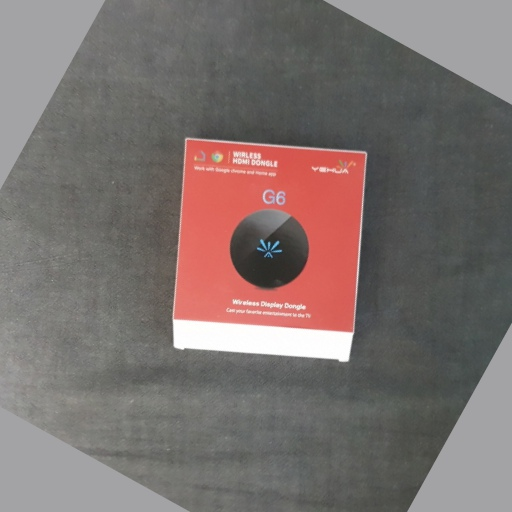Paper_0: (169, 131, 380, 369)
